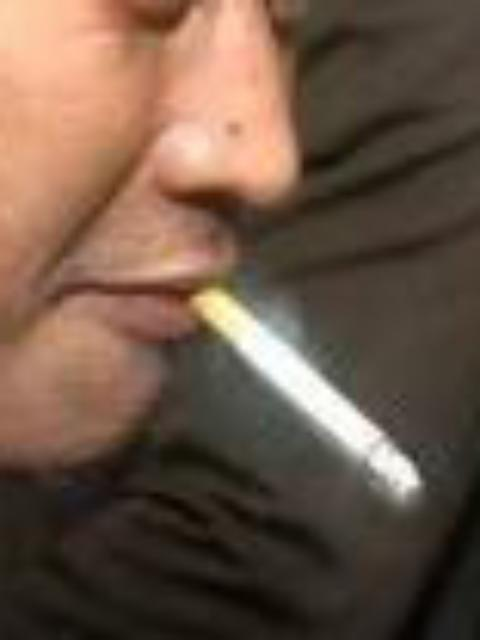Cigarette: (148, 259, 442, 517)
